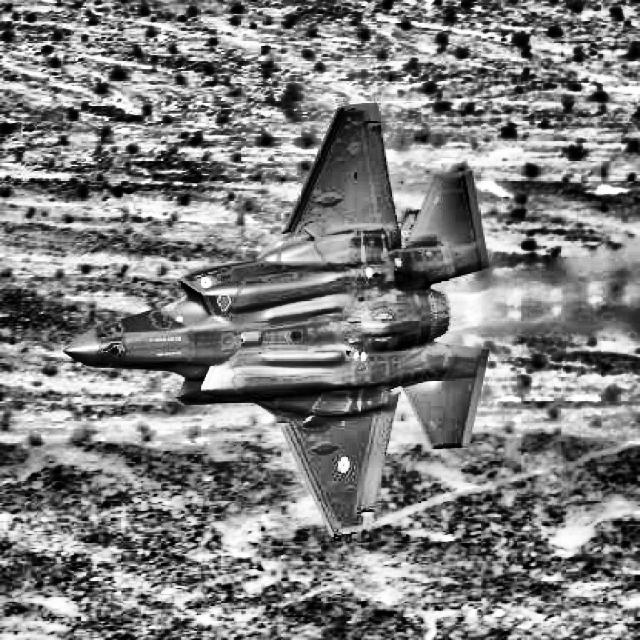F35: (62, 101, 490, 538)
